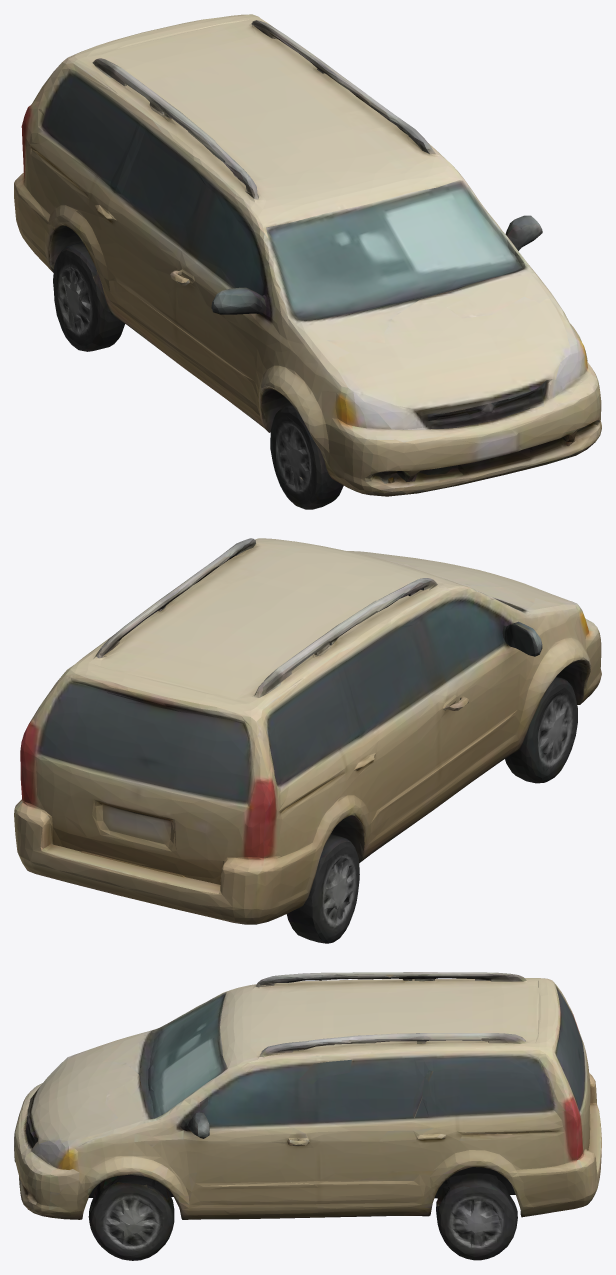
Rendered from suv.glb.
The picture shows the model from 3 angles, top to bottom: view 1: azimuth 30°, elevation 25°; view 2: azimuth 150°, elevation 25°; view 3: azimuth 270°, elevation 25°; orthographic projection. The views are drawn at different scales.
Visible parts, largest first — view 1: world; view 2: world; view 3: world.
Boxes of the visible parts, x1,y1,x2,y2 form: world: (14,14,601,509); world: (14,538,601,943); world: (14,972,601,1260).
Bounding box in the file's own units: 0.5062 × 0.3944 × 0.9991.
Materials: 1 (1 with a texture image).
